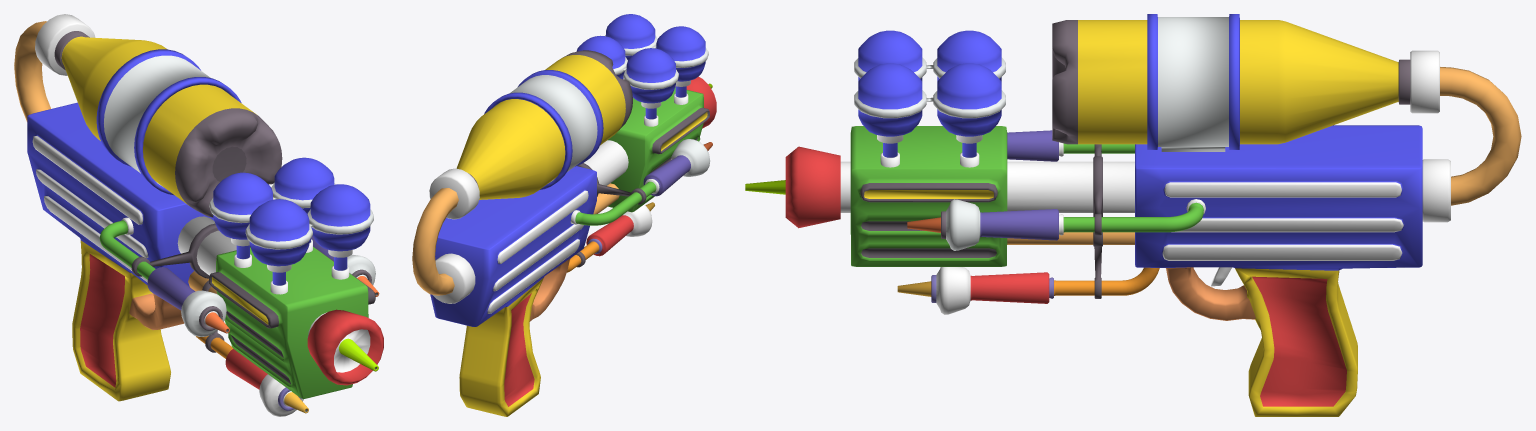
Rendered from Watergun21.fbx.
3 renders of one model, left to right at view 1: azimuth 30°, elevation 25°; view 2: azimuth 150°, elevation 25°; view 3: azimuth 270°, elevation 25°, orthographic. The views are drawn at different scales.
Parts seen in each view (by area): view 1: Watergun21; view 2: Watergun21; view 3: Watergun21.
Boxes of the visible parts, <box> form: Watergun21: <box>14,14,383,416</box>; Watergun21: <box>412,14,716,416</box>; Watergun21: <box>745,14,1521,416</box>.
Bounding box in the file's own units: 0.1211 × 0.213 × 0.3908.
